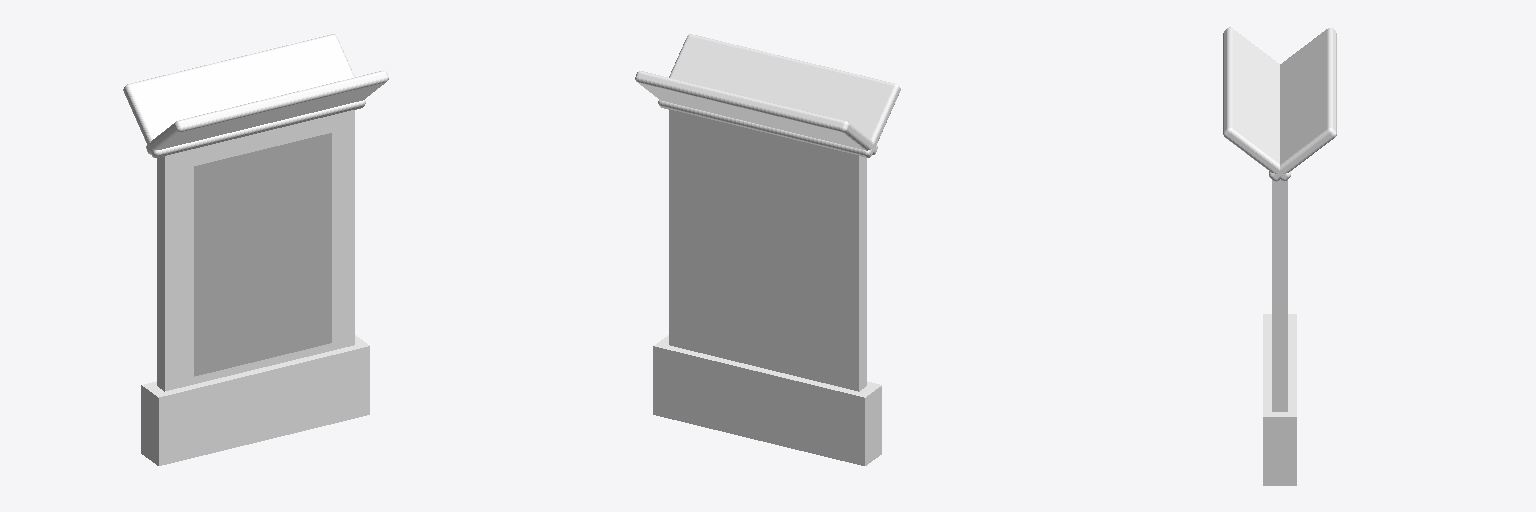
File: affiche1.obj
3 views of the same model, side by side, from view 1: azimuth 30°, elevation 25°; view 2: azimuth 150°, elevation 25°; view 3: azimuth 270°, elevation 25° (orthographic).
Visible parts, largest first — view 1: affiche1, Cube.9, Cube.10, Cube.12, Cube.11; view 2: Cube.9, Cube.10, Cube.11, Cube.12; view 3: Cube.11, Cube.12, Cube.10, Cube.9.
Boxes of the visible parts, x1=… form: affiche1: x1=194, y1=133, x2=331, y2=376; Cube.9: x1=157, y1=110, x2=354, y2=391; Cube.10: x1=141, y1=335, x2=369, y2=465; Cube.12: x1=123, y1=34, x2=365, y2=157; Cube.11: x1=146, y1=71, x2=388, y2=154; Cube.9: x1=669, y1=109, x2=866, y2=391; Cube.10: x1=653, y1=335, x2=881, y2=465; Cube.11: x1=658, y1=34, x2=900, y2=157; Cube.12: x1=635, y1=71, x2=877, y2=154; Cube.11: x1=1223, y1=27, x2=1290, y2=180; Cube.12: x1=1269, y1=28, x2=1336, y2=181; Cube.10: x1=1263, y1=314, x2=1296, y2=485; Cube.9: x1=1272, y1=180, x2=1287, y2=411.
Size of the model in its own units: 473 by 761 by 219.